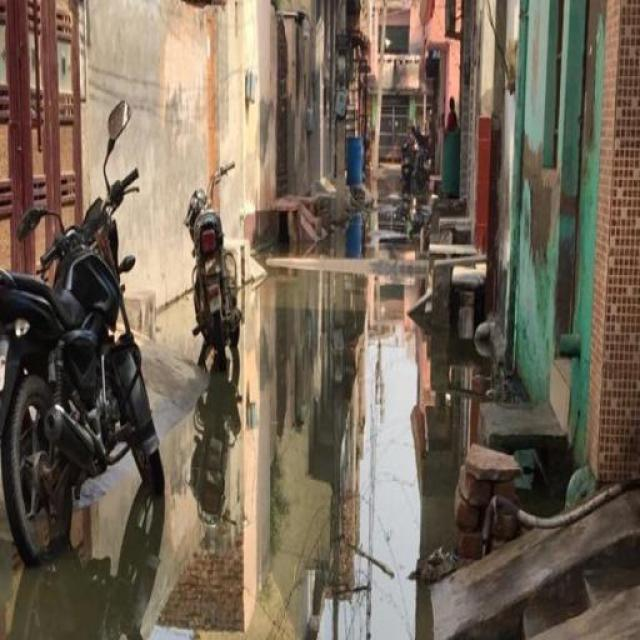puddle: (263, 270, 421, 631), (84, 487, 294, 640), (388, 326, 461, 640), (195, 408, 273, 503)
